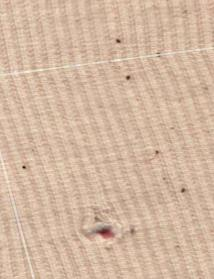hole: (83, 215, 128, 246)
stain: (174, 181, 196, 202), (117, 71, 140, 89), (149, 144, 168, 164), (110, 34, 130, 50), (17, 160, 35, 176)
